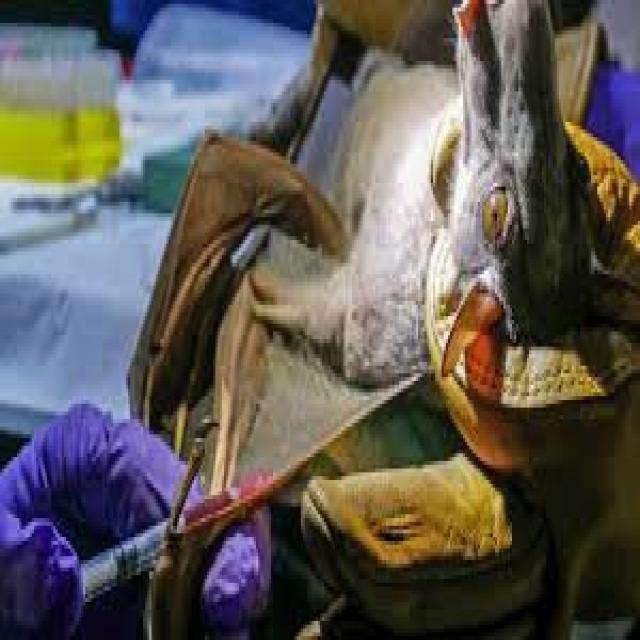Bat: (138, 7, 626, 446)
